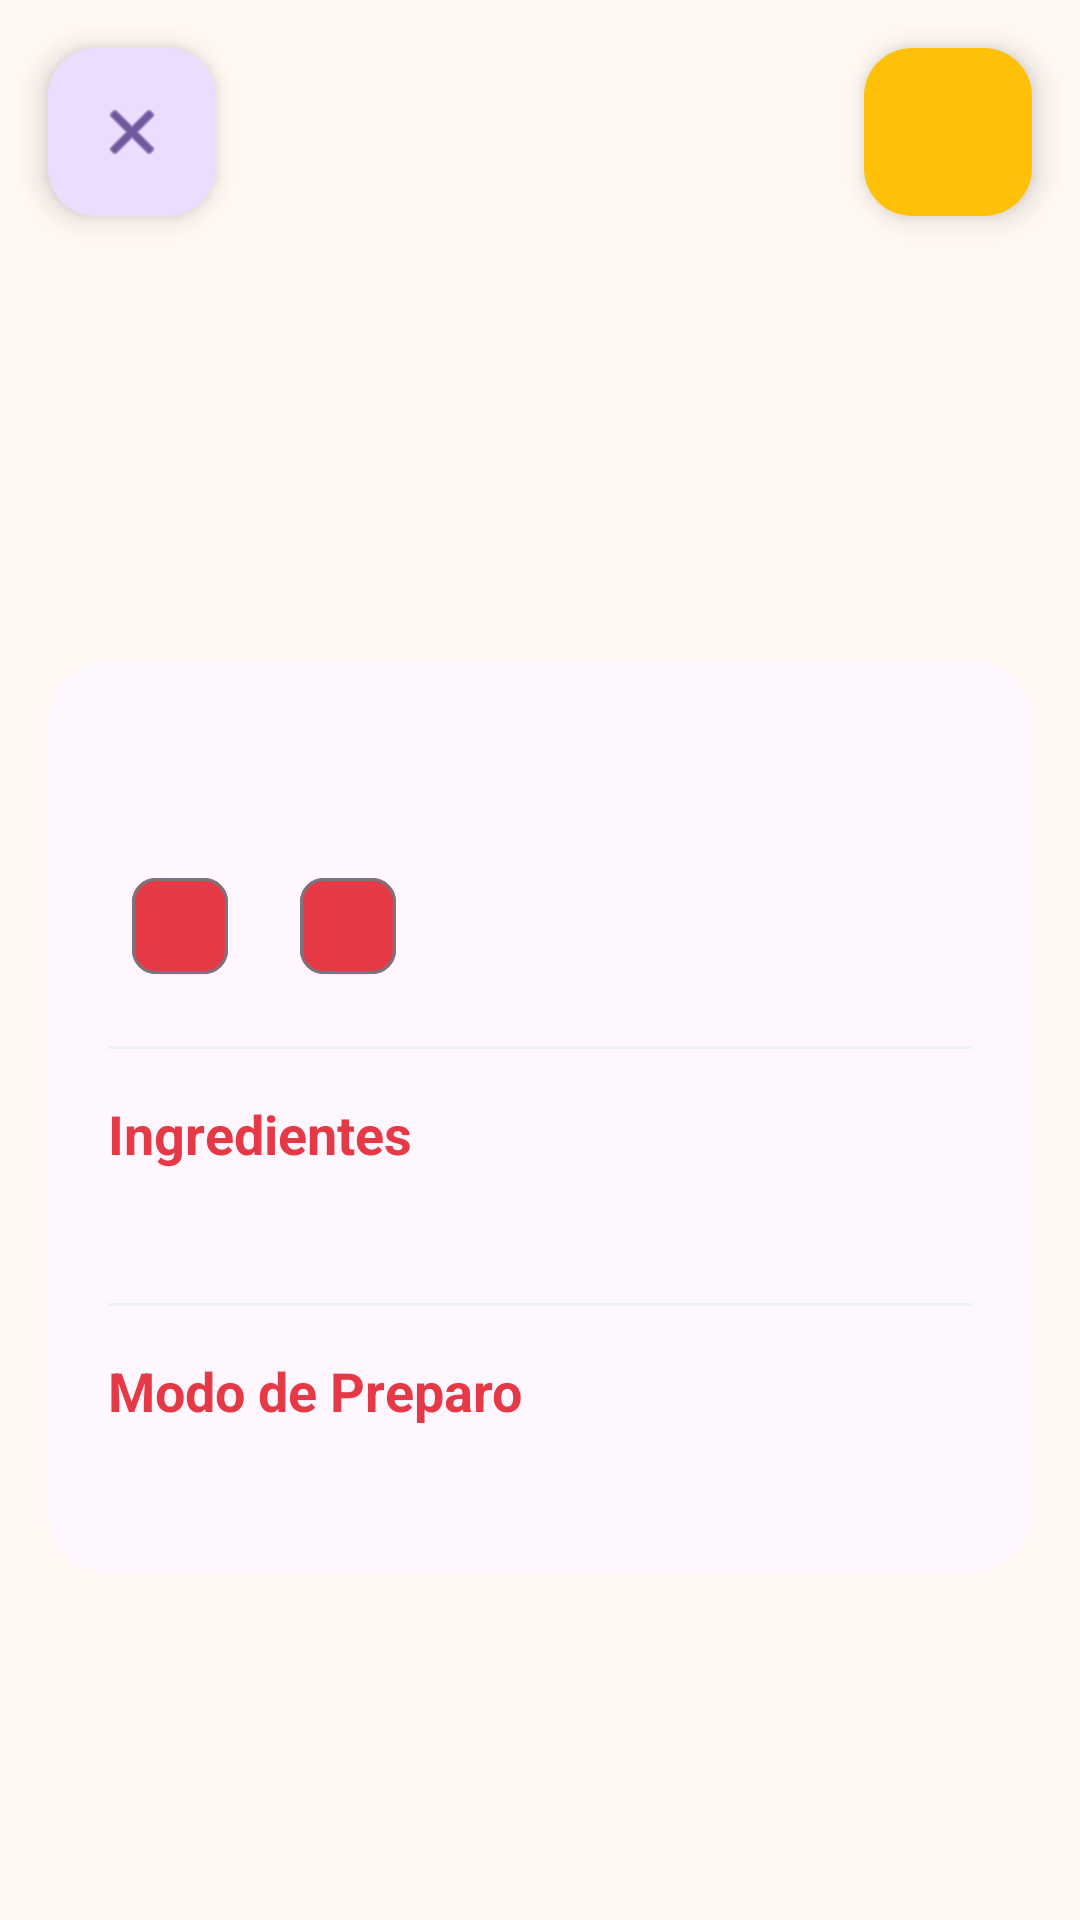

Point at icon controls on the screen. Image size 1080px x 1920px, points as point (x, y).
close clear cancel: point (132, 132)
